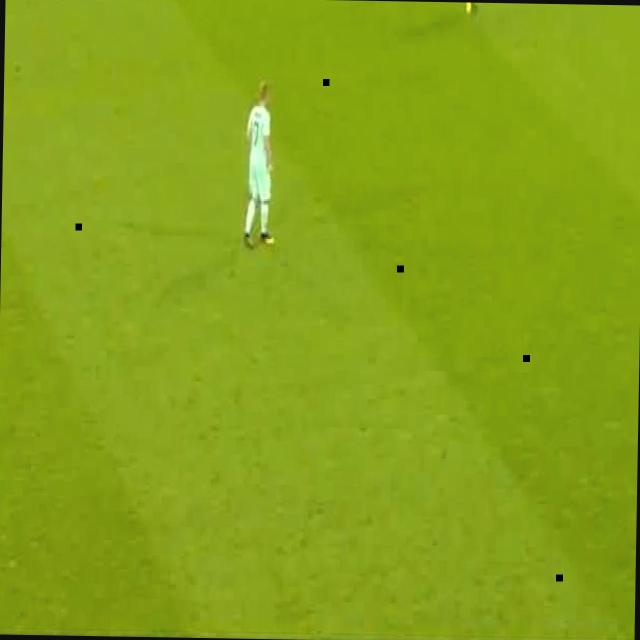player-white: (244, 81, 278, 252), (450, 2, 490, 14)
